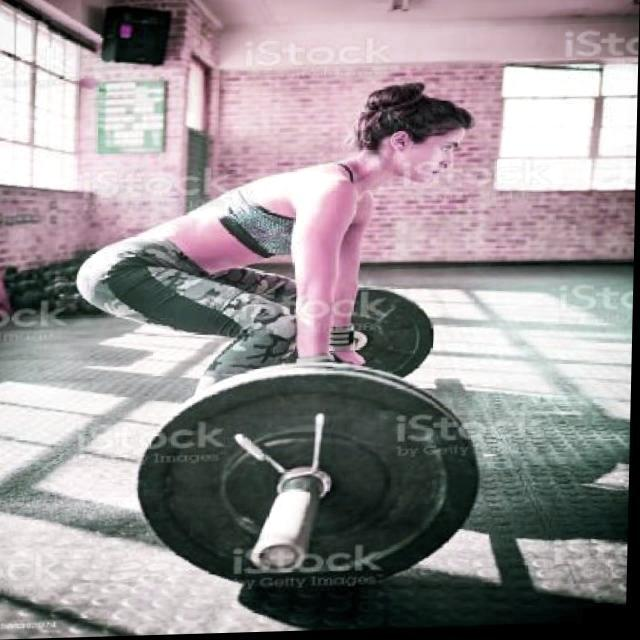barbell: (136, 367, 490, 607)
